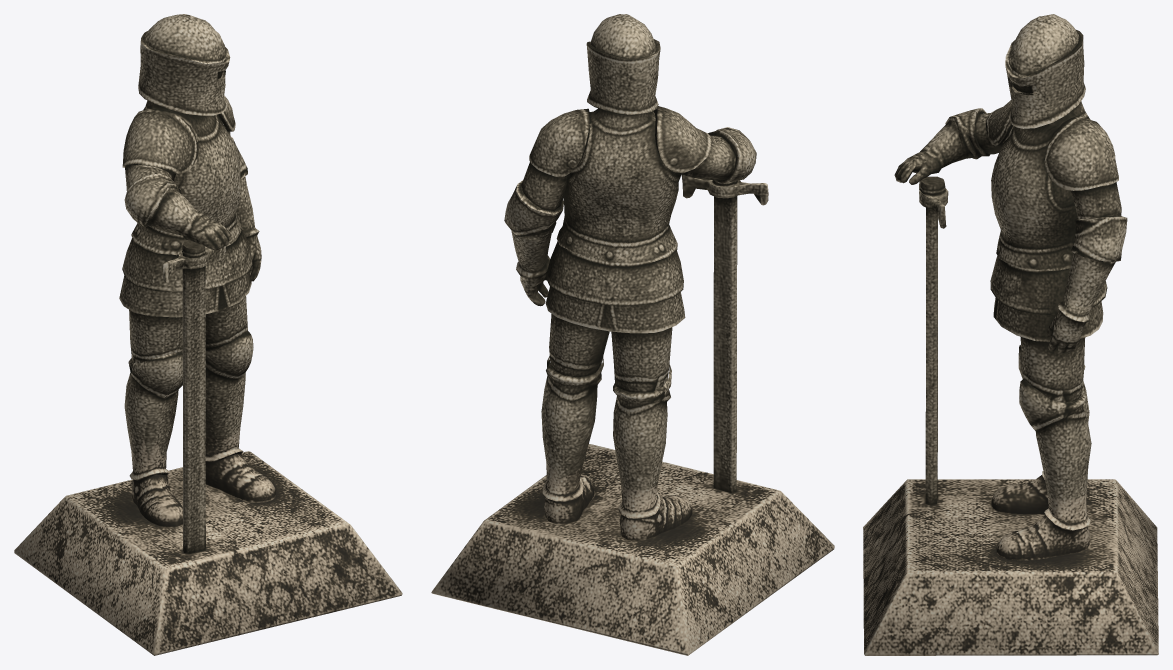
Rendered from mm7_deco_dec95.glb.
3 renders of one model, left to right at view 1: azimuth 30°, elevation 25°; view 2: azimuth 150°, elevation 25°; view 3: azimuth 270°, elevation 25°, orthographic. The views are drawn at different scales.
Parts seen in each view (by area): view 1: Statue; view 2: Statue; view 3: Statue.
Part boxes in pixels (x1=…): Statue: x1=14, y1=14, x2=402, y2=655; Statue: x1=431, y1=14, x2=834, y2=655; Statue: x1=863, y1=14, x2=1158, y2=655.
Bounding box in the file's own units: 0.4764 × 1 × 0.4699.
Materials: 1 (1 with a texture image).
